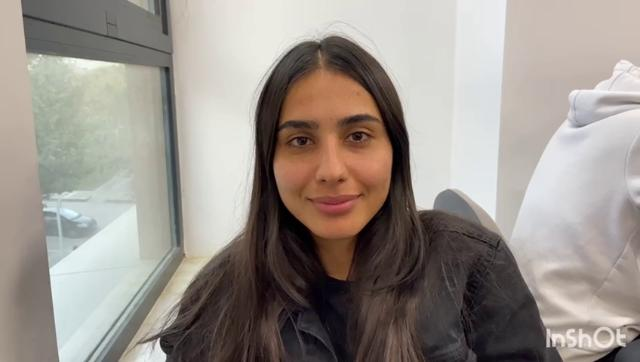senang: (270, 72, 394, 237)
